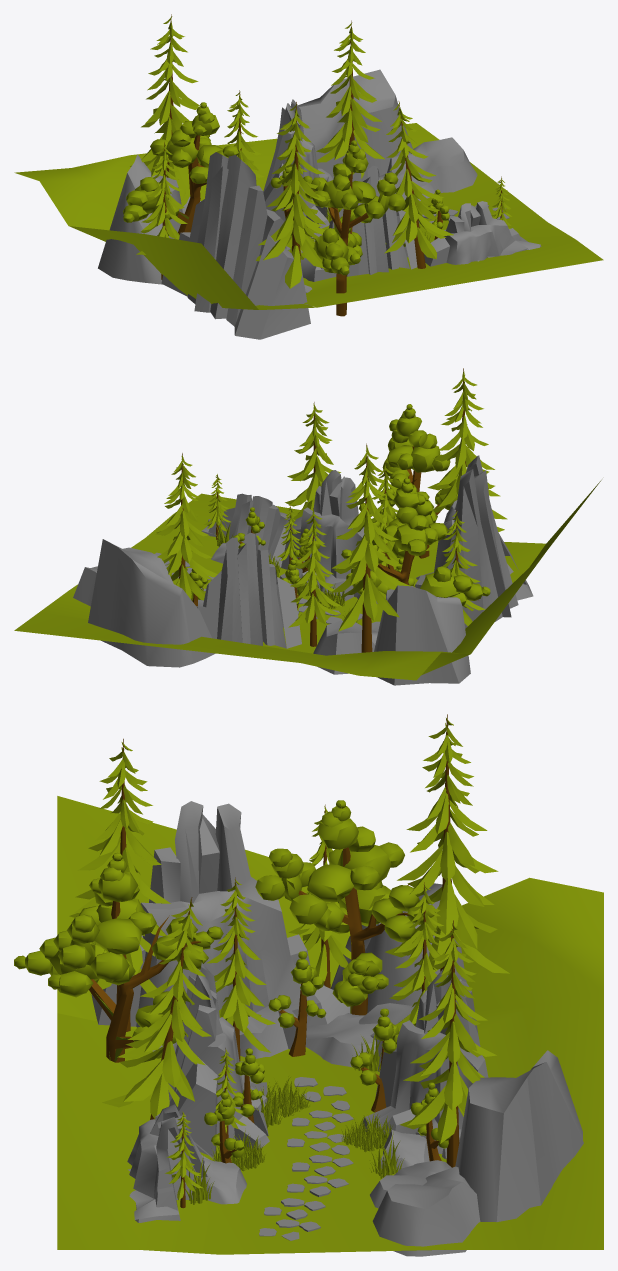
3 renders of one model, top to bottom at view 1: azimuth 30°, elevation 25°; view 2: azimuth 150°, elevation 25°; view 3: azimuth 270°, elevation 25°, orthographic. The views are drawn at different scales.
Parts seen in each view (by area): view 1: Object_5, Object_8, Object_4, Object_6; view 2: Object_5, Object_8, Object_4, Object_6, Object_2, Object_7; view 3: Object_5, Object_8, Object_4, Object_6, Object_2, Object_7, Object_3.
Part boxes in pixels (bbox=[...]): Object_5: bbox=[98, 16, 541, 339]; Object_8: bbox=[14, 123, 603, 309]; Object_4: bbox=[123, 14, 510, 279]; Object_6: bbox=[136, 26, 511, 259]; Object_5: bbox=[73, 371, 533, 685]; Object_8: bbox=[14, 480, 601, 680]; Object_4: bbox=[156, 368, 507, 652]; Object_6: bbox=[155, 392, 485, 625]; Object_2: bbox=[200, 429, 433, 615]; Object_7: bbox=[192, 489, 419, 622]; Object_5: bbox=[14, 718, 583, 1256]; Object_8: bbox=[57, 796, 603, 1254]; Object_4: bbox=[25, 714, 509, 1208]; Object_6: bbox=[90, 734, 496, 1203]; Object_2: bbox=[67, 853, 396, 1200]; Object_7: bbox=[185, 818, 401, 1200]; Object_3: bbox=[189, 1052, 390, 1203].
Size of the model in its own units: 53.68 by 29.99 by 46.7.
1 material, 1 textured.
